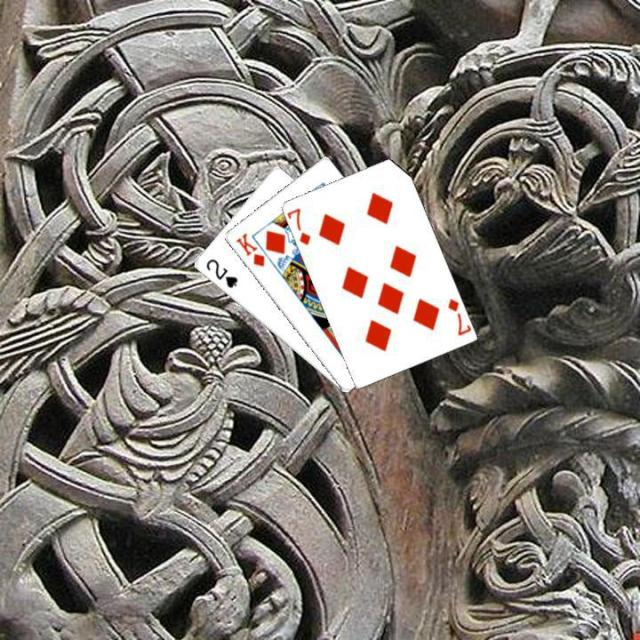2S: (202, 255, 239, 290)
7D: (284, 204, 312, 247), (444, 294, 471, 337)
KD: (231, 228, 267, 268)
